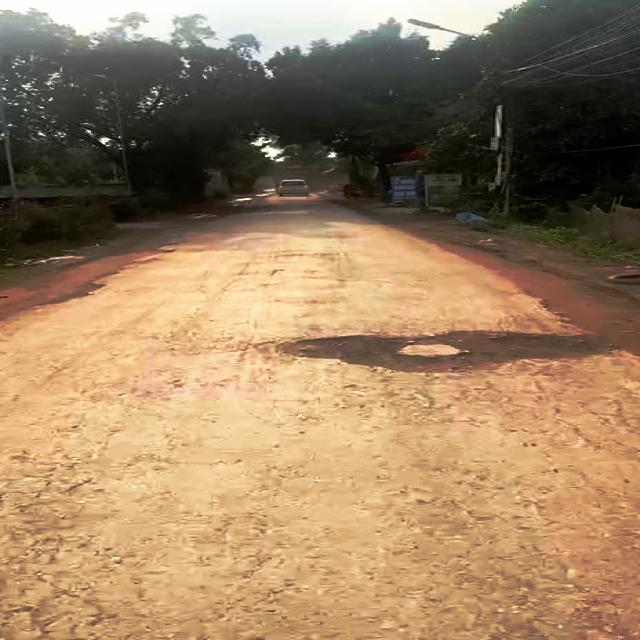pothole: (269, 328, 622, 381)
